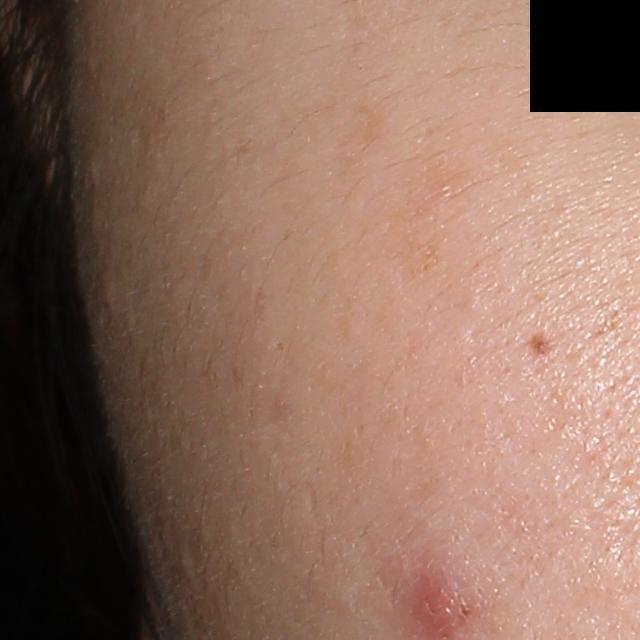nevus: (524, 329, 551, 358)
